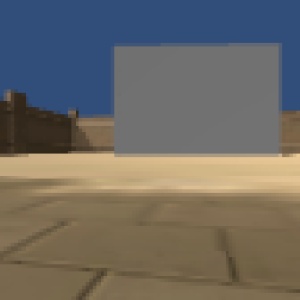wall: (111, 44, 283, 158)
